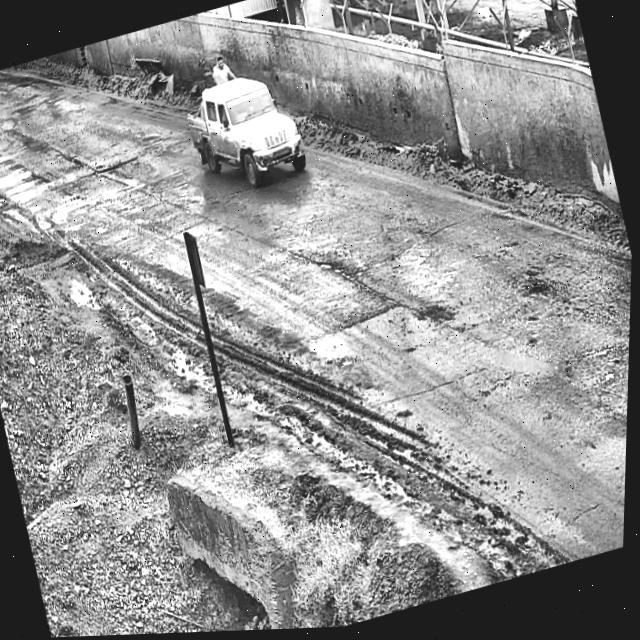light_vehicle: (173, 28, 323, 215)
